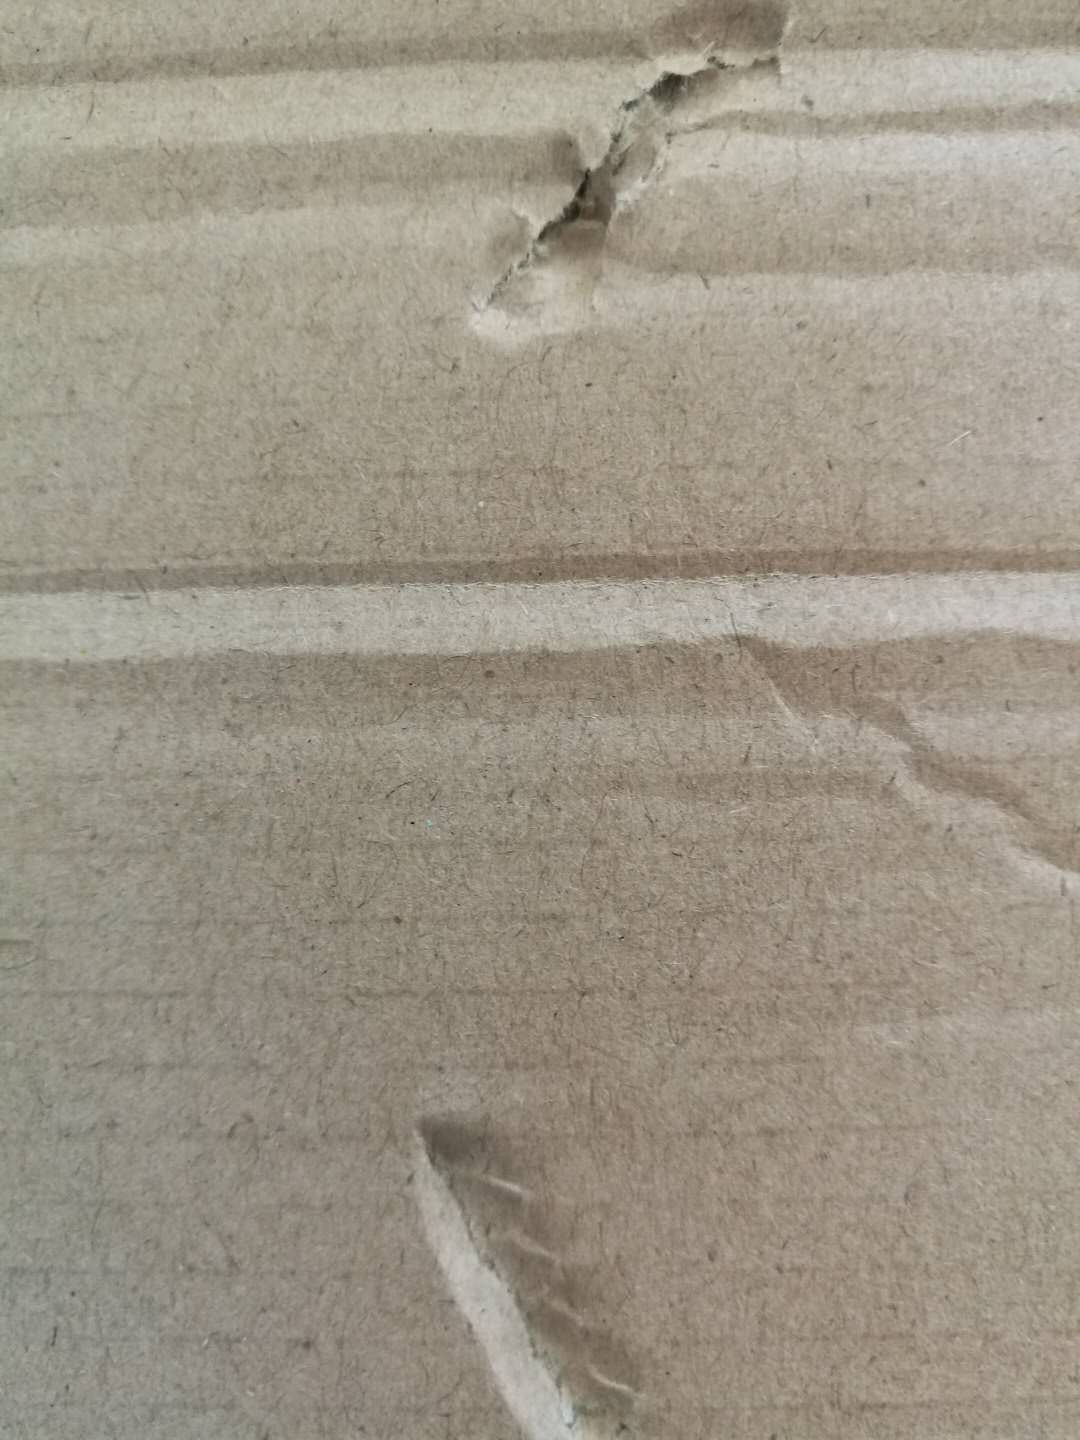defect: (2, 12, 1080, 340), (3, 508, 1080, 708), (442, 5, 842, 382), (349, 1084, 722, 1440), (746, 642, 1080, 908)
